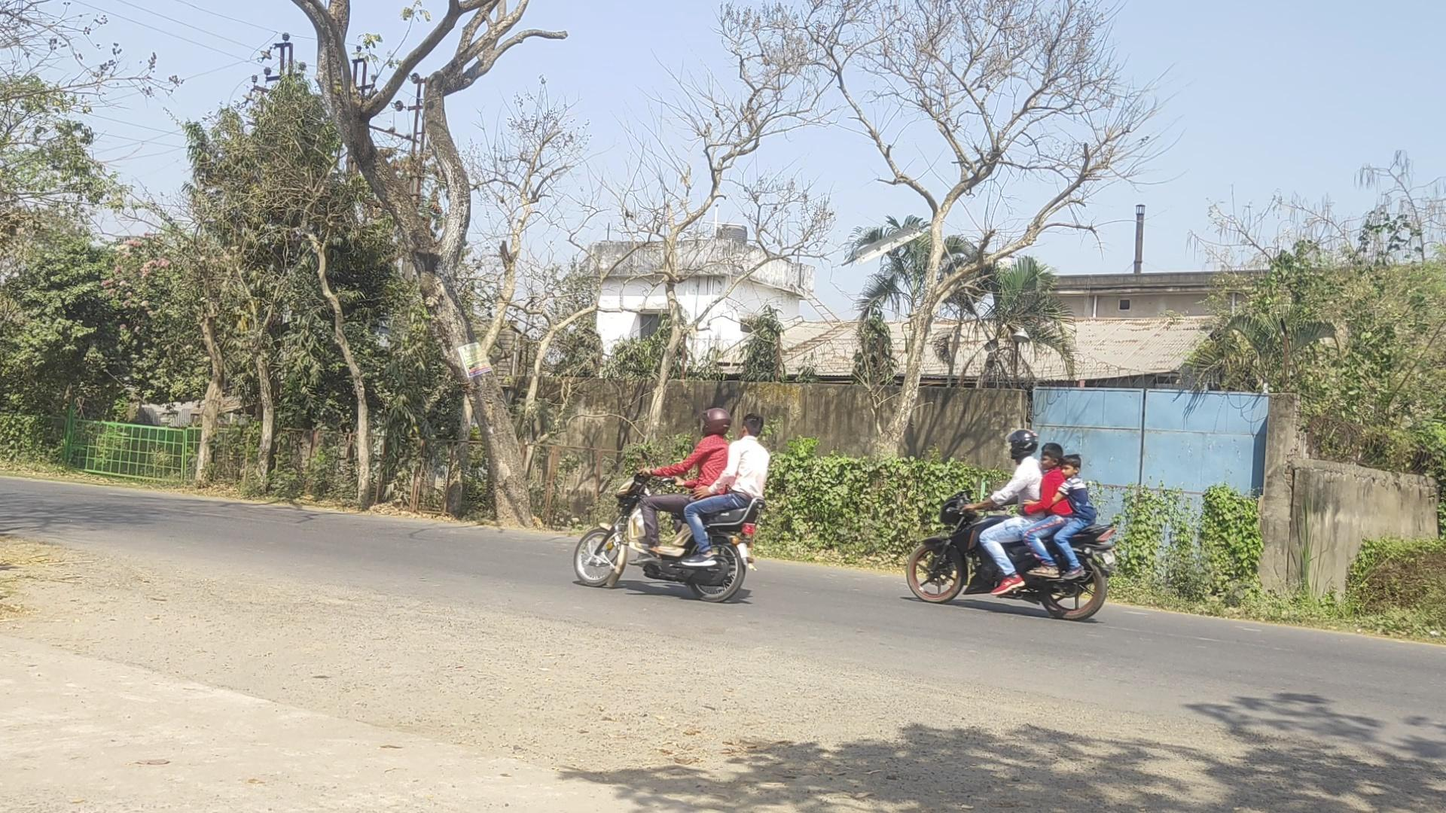bike: (905, 428, 1116, 621), (574, 407, 768, 601)
